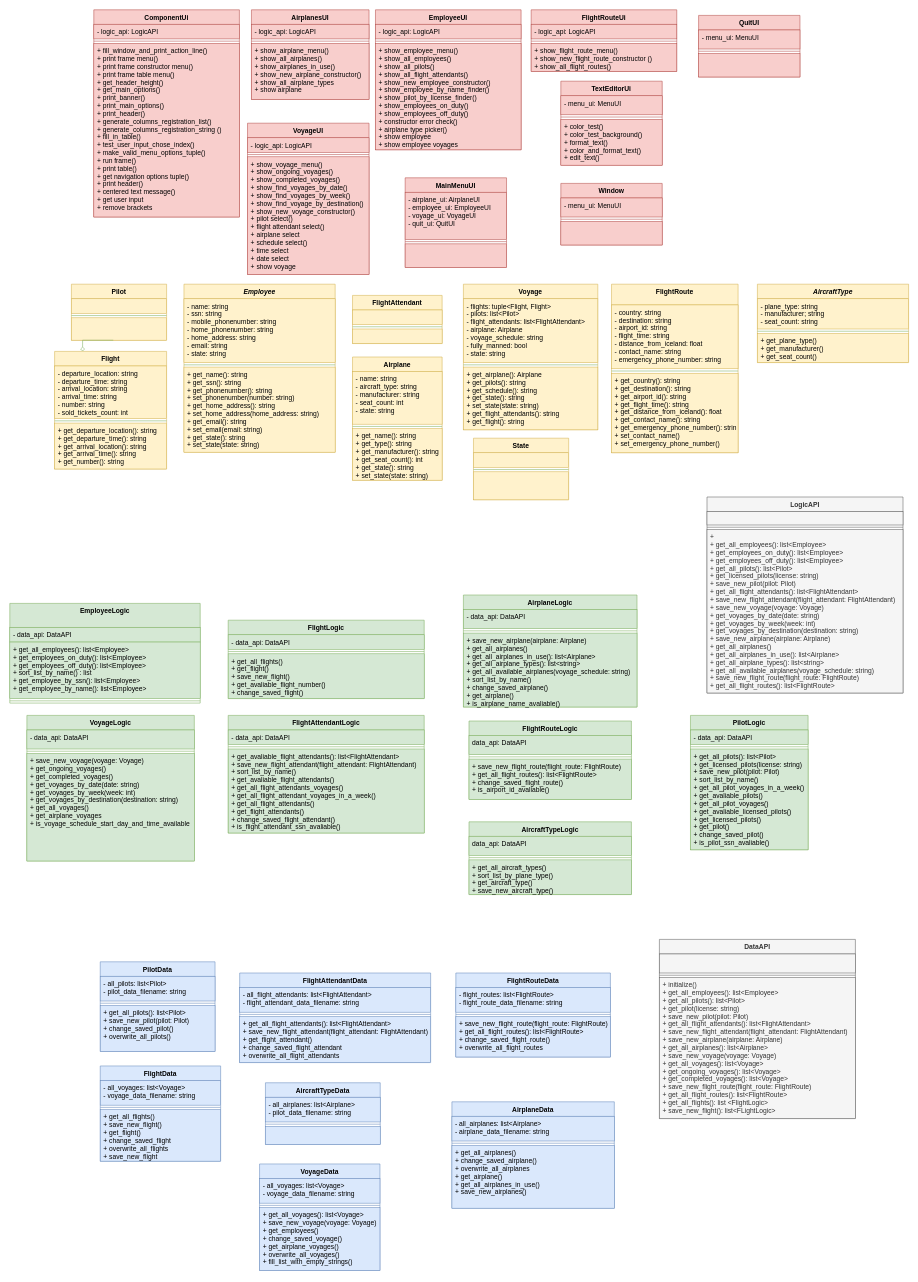
Image size: 918x1282. Some labels were removed from this diagram. The centre of each missing label's shape, as x and y in pixels:
+ clear() + get_size(): (x=611, y=233)
+ get_all_aircraft_types(): (x=322, y=1135)
+ get_employee_states() + get_airplane_states() + get_voyage_states(): (x=521, y=485)
+ get_license(): string + set_license(license: string): (x=119, y=328)
+ print main menu body() + show: (x=456, y=255)
+ print_quit_main_menu_body() + show: (x=749, y=65)
- license: string: (x=119, y=305)
- state: tuple: (x=521, y=459)
